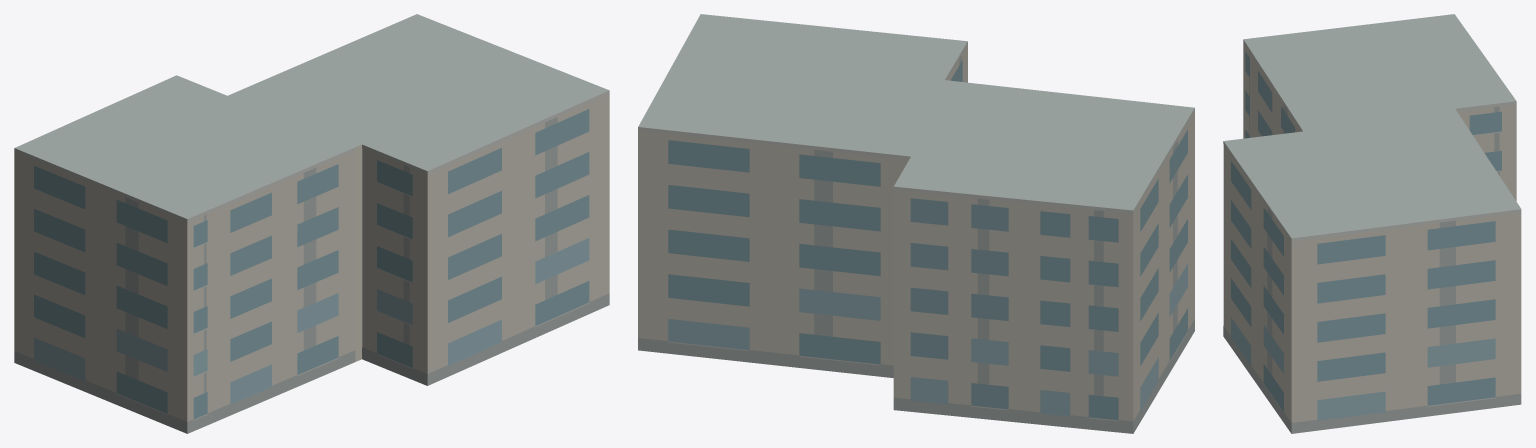
Rendered from survey-upis-32642414.glb.
3 renders of one model, left to right at view 1: azimuth 30°, elevation 25°; view 2: azimuth 150°, elevation 25°; view 3: azimuth 270°, elevation 25°, orthographic. The views are drawn at different scales.
Visible parts, largest first — view 1: survey-upis-32642414.tmp; view 2: survey-upis-32642414.tmp; view 3: survey-upis-32642414.tmp.
Boxes of the visible parts, <box> form: survey-upis-32642414.tmp: <box>14,14,609,433</box>; survey-upis-32642414.tmp: <box>638,14,1194,433</box>; survey-upis-32642414.tmp: <box>1223,14,1521,433</box>.
Size of the model in its own units: 37.57 by 15.25 by 21.08.
